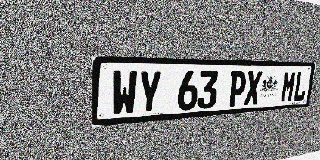3: (197, 71, 219, 109)
6: (177, 71, 200, 111)
L: (293, 71, 309, 102)
M: (280, 71, 297, 103)
P: (227, 71, 247, 107)
W: (111, 70, 138, 116)
X: (243, 71, 262, 106)
Y: (137, 70, 162, 114)
